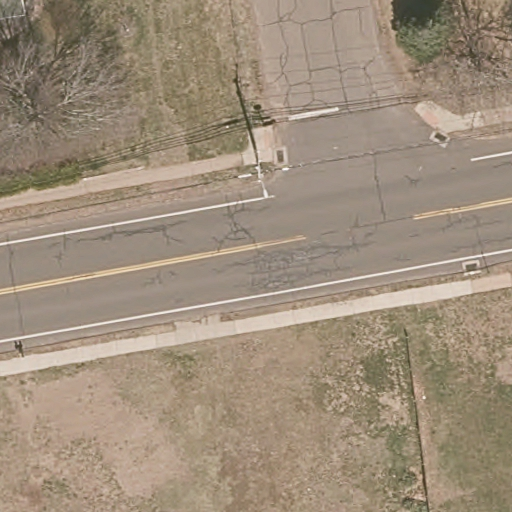DT: (237, 150, 285, 197)
